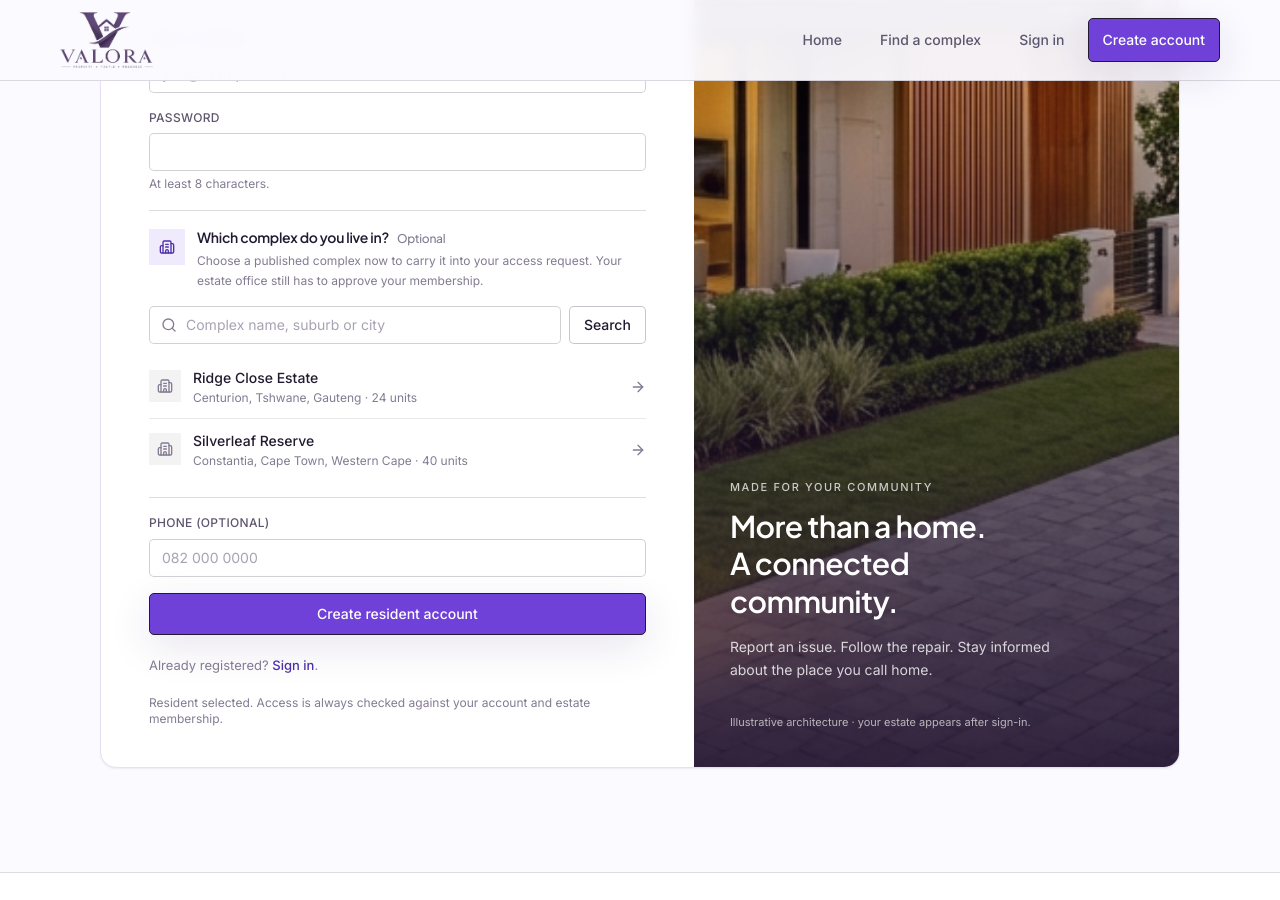
Test case: Register — estate discovery and context › loads published estates from the directory endpoint and lets a resident select one
(page scrolled)
Expected: the button "Ridge Close Estate Centurion, Tshwane, Gauteng · 24 units" is shown, [149,356,646,418]
Click the button "Silverleaf Reserve" at x=165, y=449, box [149,419,646,481]
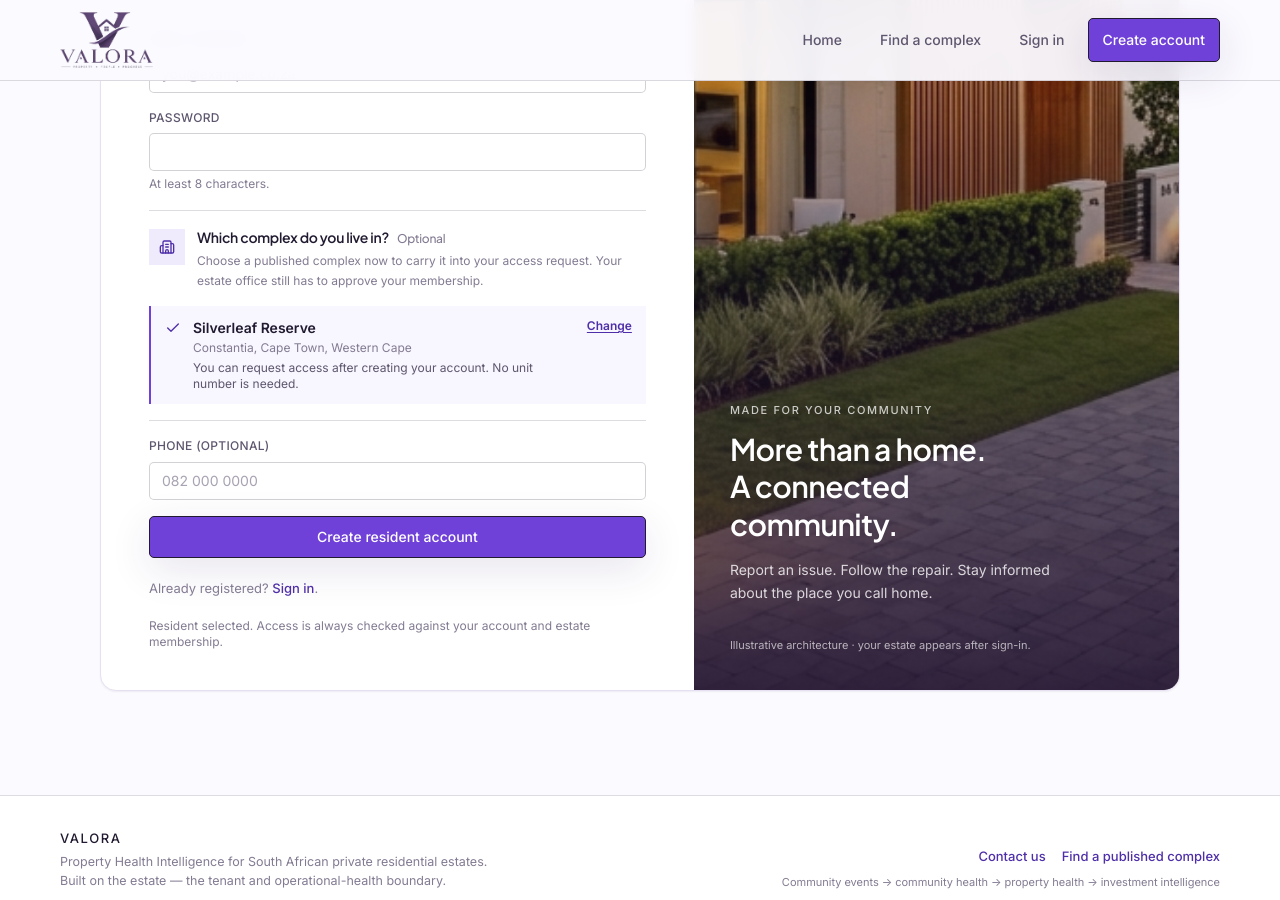
Expected: the text "Silverleaf Reserve" is shown, [193,319,316,336]
Expected: the text "You can request access after creating your account" is shown, [193,360,533,391]
